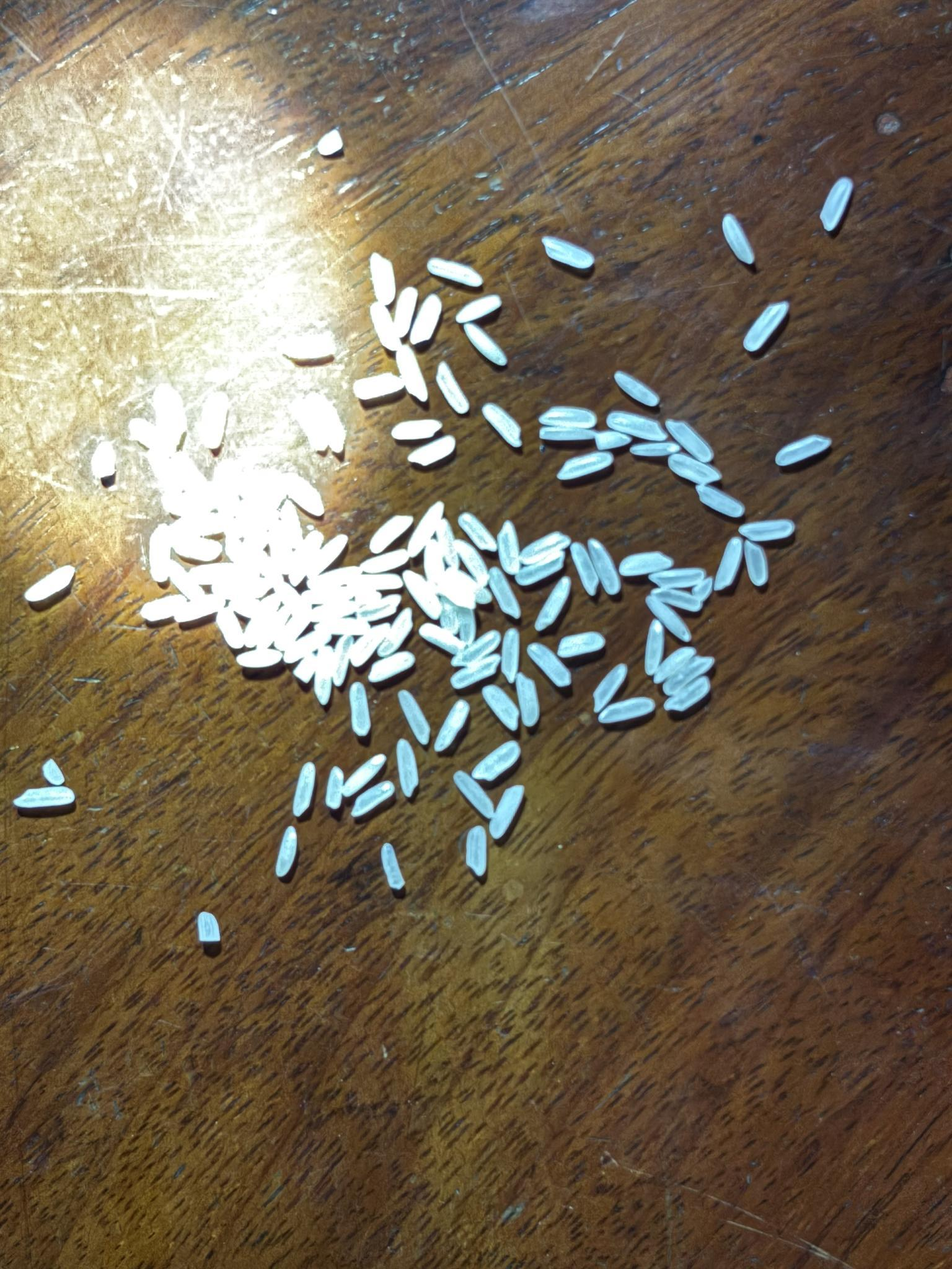Rice-th-y-nh: (404, 499, 447, 558), (192, 390, 234, 450), (305, 392, 347, 451), (742, 301, 789, 353), (151, 383, 189, 445), (645, 593, 692, 642), (661, 654, 716, 695), (665, 418, 714, 463), (526, 642, 573, 688), (709, 536, 748, 591), (535, 576, 573, 632), (280, 470, 326, 516), (341, 753, 388, 798), (289, 396, 328, 450), (172, 450, 211, 504), (586, 537, 622, 595), (463, 322, 509, 367), (452, 771, 495, 819), (402, 569, 442, 619), (395, 346, 430, 403), (347, 622, 391, 667), (24, 565, 76, 603), (480, 401, 522, 448), (491, 520, 526, 576), (607, 410, 666, 443), (434, 699, 470, 753), (306, 533, 349, 578), (474, 741, 521, 782), (368, 514, 415, 555), (667, 451, 722, 486), (515, 551, 567, 588), (434, 362, 470, 415), (486, 566, 522, 619), (775, 433, 831, 467), (378, 607, 414, 659), (818, 178, 853, 231), (490, 784, 524, 838), (450, 654, 501, 690), (242, 597, 278, 648), (288, 530, 323, 582), (397, 689, 430, 744), (307, 564, 362, 597), (591, 664, 628, 713), (452, 537, 489, 586), (427, 255, 483, 287), (663, 676, 711, 713), (542, 236, 594, 270), (556, 450, 613, 481), (651, 645, 696, 684), (349, 781, 395, 819), (409, 294, 443, 345), (284, 629, 332, 665), (367, 302, 402, 351), (738, 538, 773, 587), (482, 684, 519, 730), (519, 530, 569, 564), (614, 371, 661, 407), (128, 417, 175, 453), (696, 484, 744, 519), (435, 570, 477, 610), (650, 563, 707, 592), (169, 510, 228, 538), (407, 434, 457, 467), (569, 541, 599, 596), (430, 518, 463, 568), (457, 512, 498, 552), (281, 332, 337, 361), (721, 215, 754, 264), (170, 531, 222, 562), (167, 560, 205, 602), (598, 696, 654, 724), (619, 549, 673, 578), (418, 622, 464, 656), (274, 580, 312, 621), (368, 650, 415, 683), (455, 292, 502, 325), (650, 585, 703, 614), (641, 619, 667, 677), (368, 253, 397, 305), (174, 594, 224, 624), (144, 448, 178, 492), (147, 524, 173, 581), (352, 372, 403, 401), (459, 630, 501, 665), (312, 647, 337, 705), (139, 593, 187, 623), (15, 785, 75, 809), (267, 520, 293, 574), (394, 740, 419, 796), (291, 762, 317, 815), (739, 518, 796, 542), (514, 674, 540, 726), (558, 630, 606, 658), (278, 500, 306, 548), (391, 416, 442, 442), (190, 560, 241, 586), (392, 287, 418, 337), (275, 614, 310, 651), (216, 606, 245, 650), (360, 548, 408, 574), (499, 628, 522, 681), (332, 634, 355, 687), (358, 595, 401, 623), (349, 682, 371, 736), (421, 539, 447, 584), (275, 826, 298, 876), (380, 843, 404, 890), (236, 646, 283, 670), (346, 573, 381, 605), (357, 570, 403, 593), (465, 827, 487, 875), (593, 428, 632, 453), (632, 439, 680, 459), (321, 616, 368, 636), (257, 553, 284, 586), (293, 651, 320, 683), (325, 767, 344, 810), (317, 129, 343, 156), (691, 576, 715, 603), (42, 759, 65, 787), (201, 912, 220, 942)
